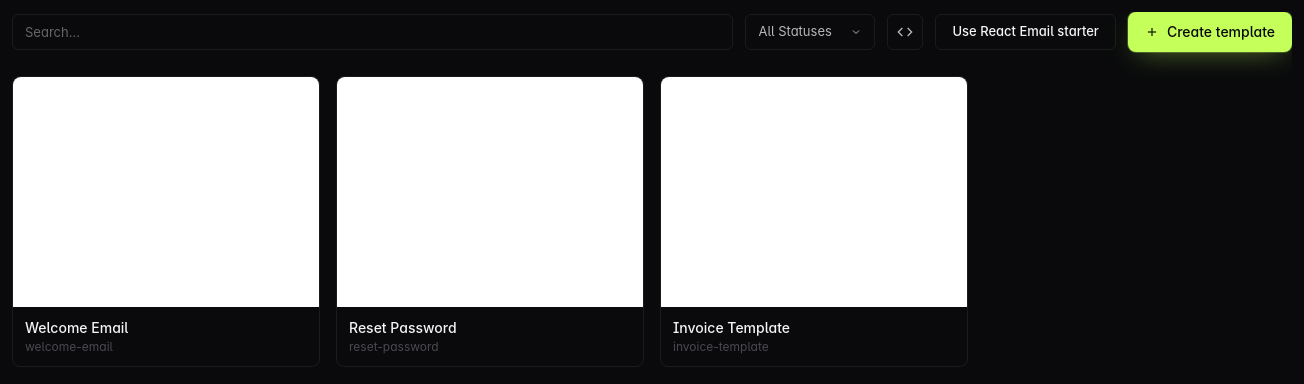
it: TemplatesList › filters templates by status when Draft is selected
Expected: the link "Welcome Email" is shown, [25,318,128,336]
Click the button "All Statuses": (810,32) [745,14,875,50]
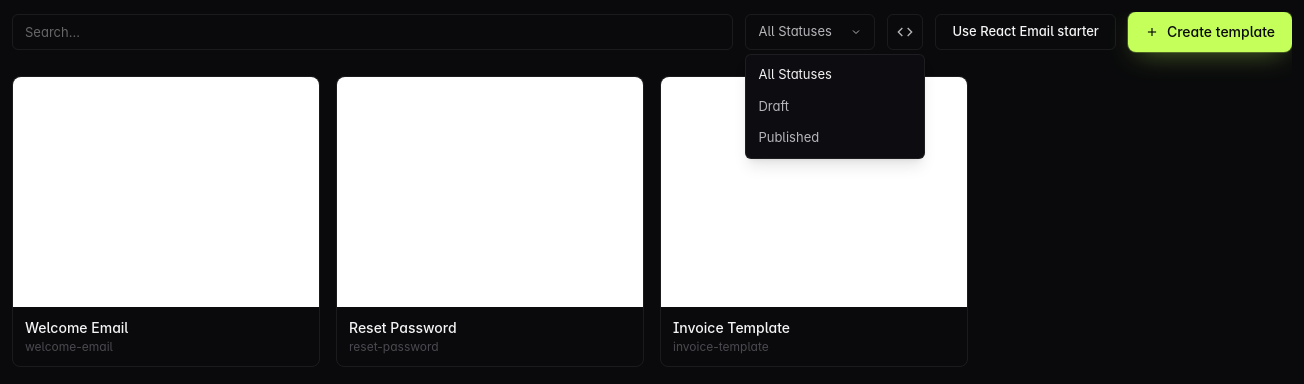
Click the menu item "Draft": (835,106) [746,90,924,122]
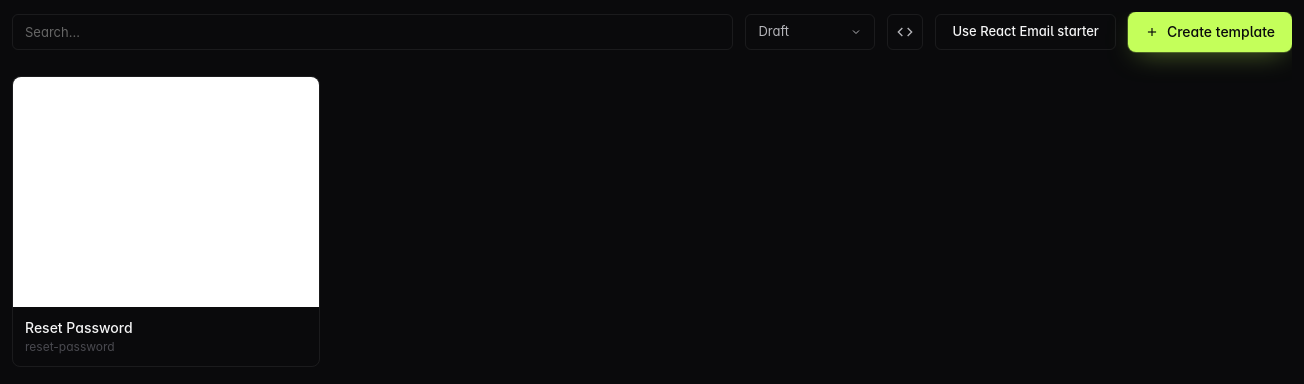
Expected: the link "Reset Password" is shown, [25,318,133,336]
Expected: the link "Welcome Email" is gone
